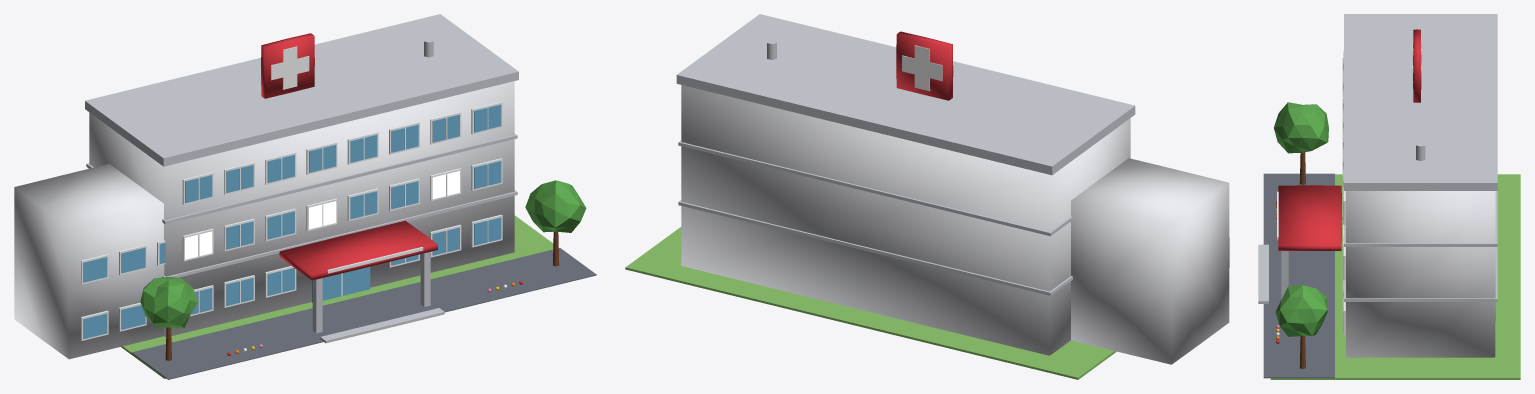
Rendered from hospital.glb.
3 views of the same model, side by side, from view 1: azimuth 30°, elevation 25°; view 2: azimuth 150°, elevation 25°; view 3: azimuth 270°, elevation 25° (orthographic). The views are drawn at different scales.
Visible parts, largest first — view 1: root; view 2: root; view 3: root.
Part boxes in pixels (box(x1,y1,x2,y2)): root: box(14, 14, 596, 379); root: box(625, 14, 1229, 379); root: box(1258, 14, 1520, 379).
Bounding box in the file's own units: 30.76 × 14.2 × 14.7.
